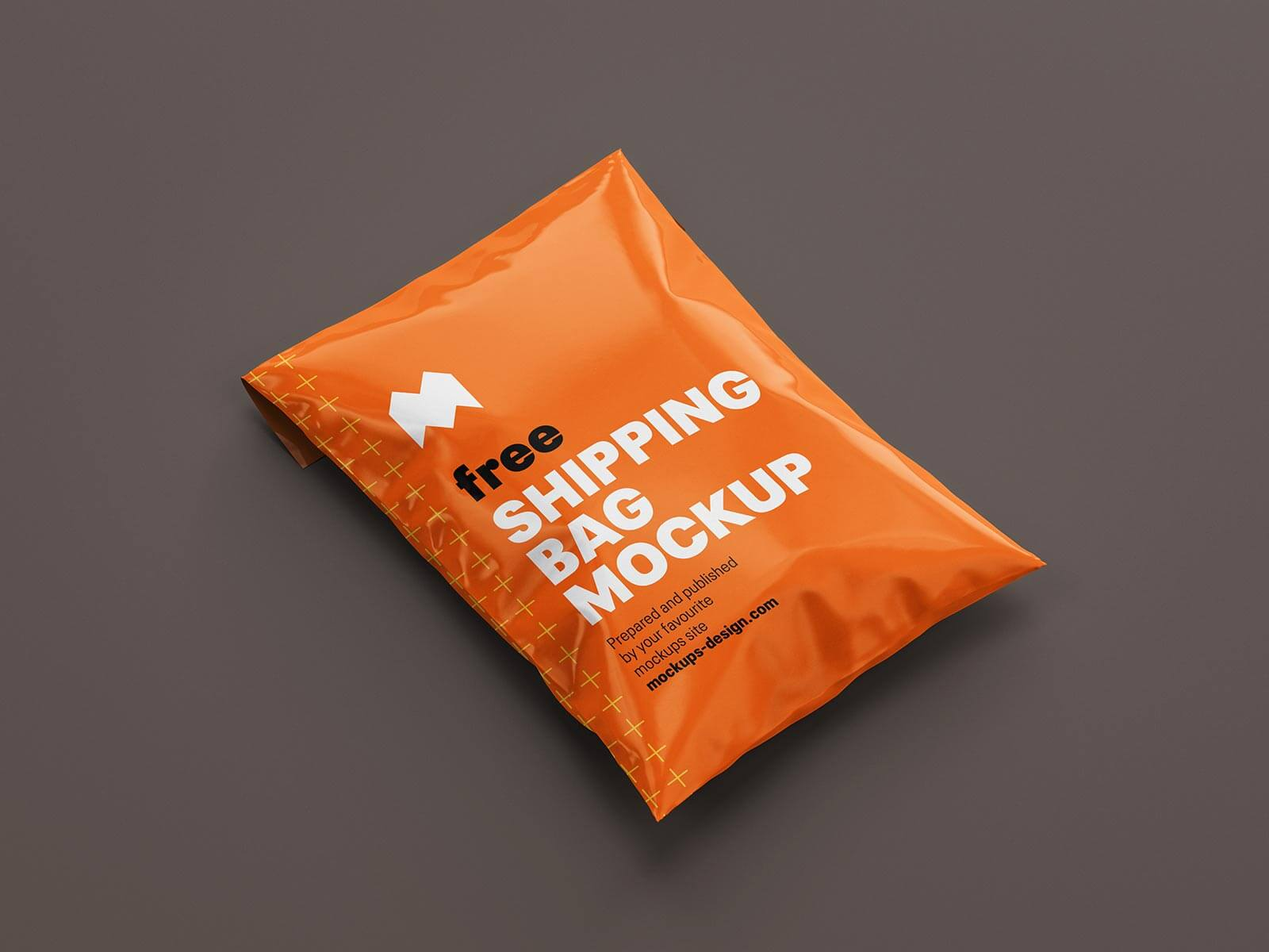Parcel: (244, 152, 1040, 818)
